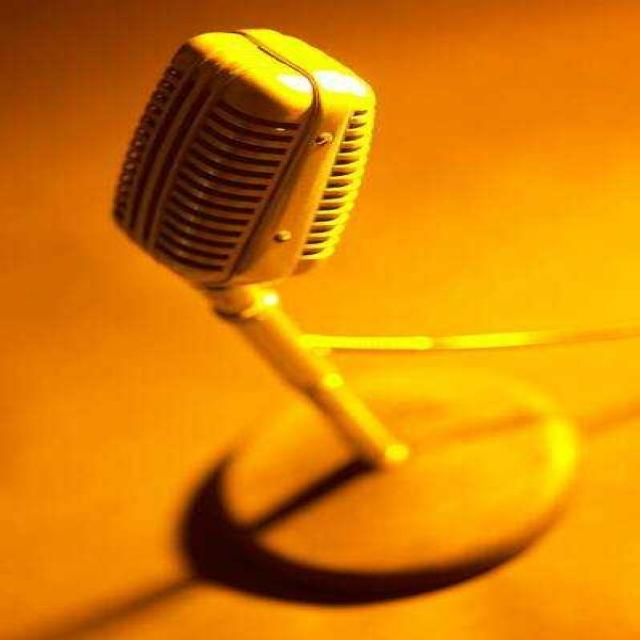microphone: (112, 29, 376, 293)
